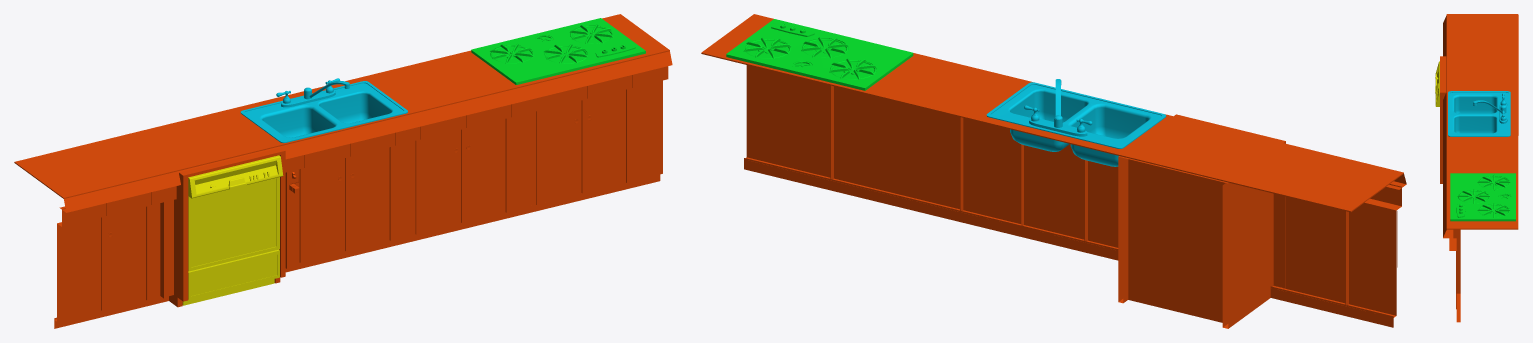
The model's file is KitchenCabinets_low.fbx.
The picture shows the model from 3 angles, left to right: view 1: azimuth 30°, elevation 25°; view 2: azimuth 150°, elevation 25°; view 3: azimuth 270°, elevation 25°; orthographic projection. The views are drawn at different scales.
Visible parts, largest first — view 1: Countertop1, Dishwasher1, Stovetop1, Sink1; view 2: Countertop1, Sink1, Stovetop1; view 3: Countertop1, Stovetop1, Sink1, Dishwasher1.
Boxes of the visible parts, <box> form: Countertop1: <box>14,14,672,328</box>; Dishwasher1: <box>182,155,283,305</box>; Stovetop1: <box>471,18,645,84</box>; Sink1: <box>240,78,407,143</box>; Countertop1: <box>701,14,1406,328</box>; Sink1: <box>986,79,1166,166</box>; Stovetop1: <box>726,19,913,90</box>; Countertop1: <box>1440,14,1518,322</box>; Stovetop1: <box>1450,173,1515,221</box>; Sink1: <box>1448,91,1510,136</box>; Dishwasher1: <box>1435,61,1439,106</box>.
Bounding box in the file's own units: 80.87 × 20.96 × 13.22.
